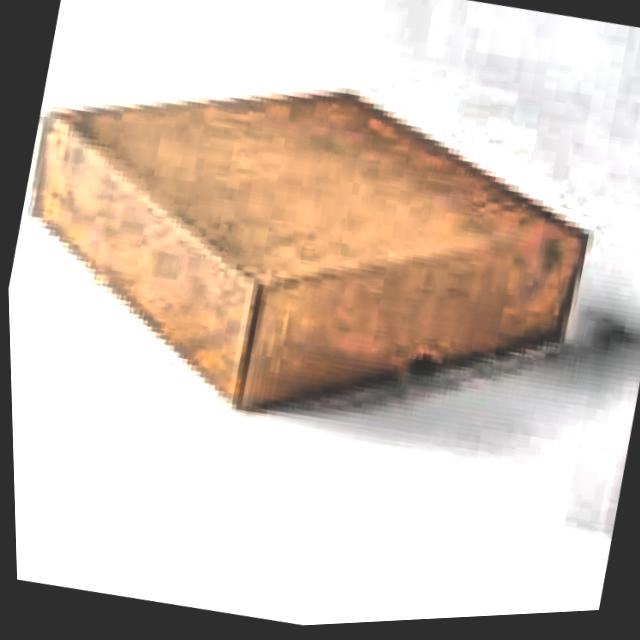Cardbox: (1, 15, 640, 517)
